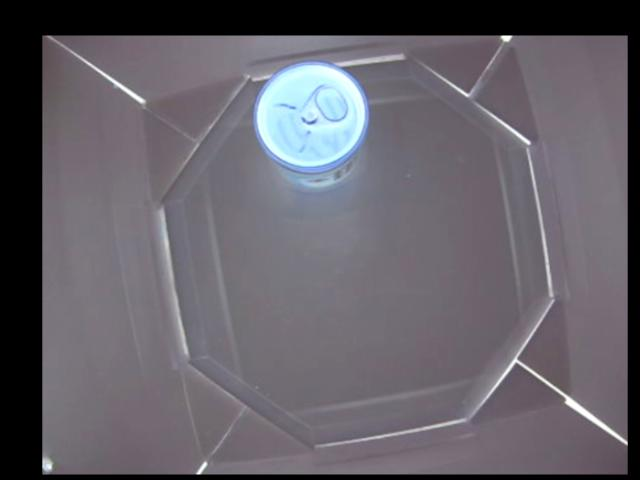Bottle: (252, 61, 369, 189)
